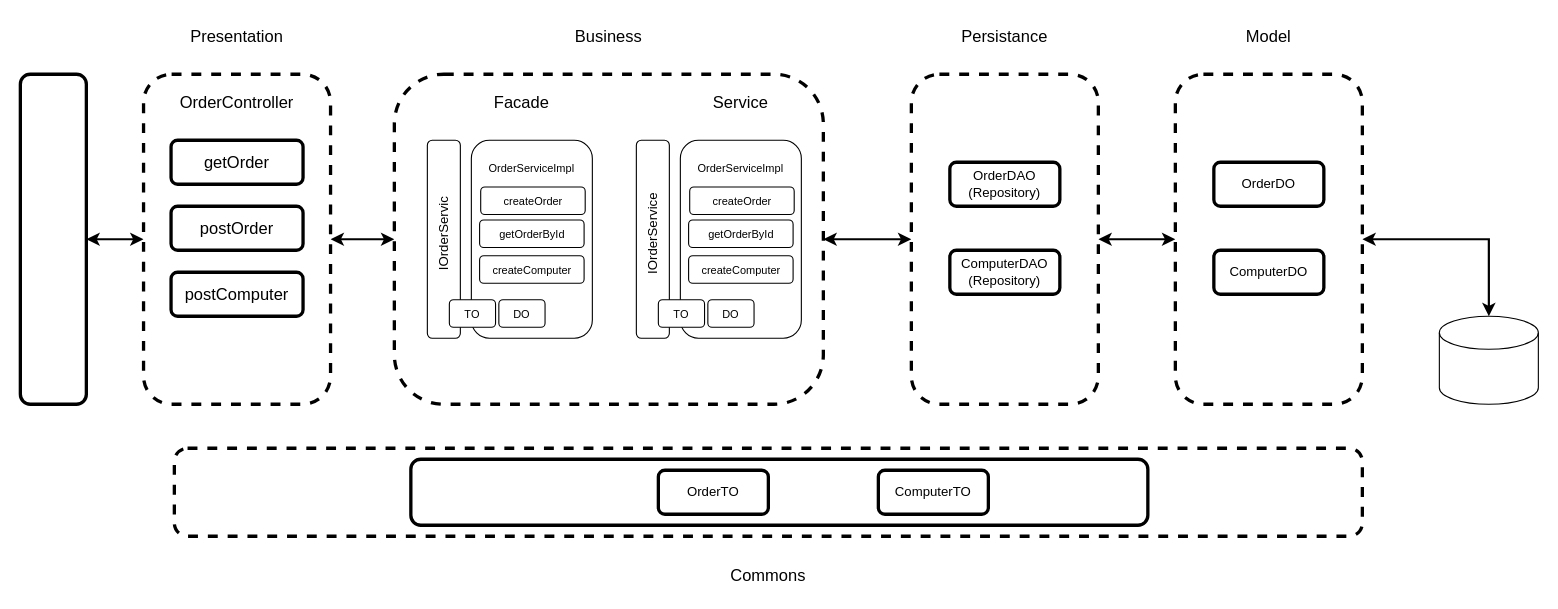
Image size: 1558x609. Some labels were removed from this diagram. Here are the shapes that lost their labels. From the top down, the centre of each, then its label:
At point (52, 238): "Rest".
At point (1488, 359): "Database (MySQL)".
